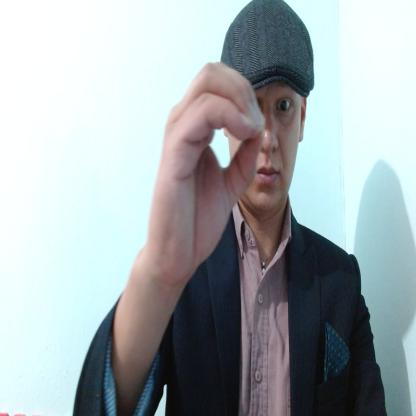O: (146, 60, 267, 274)
